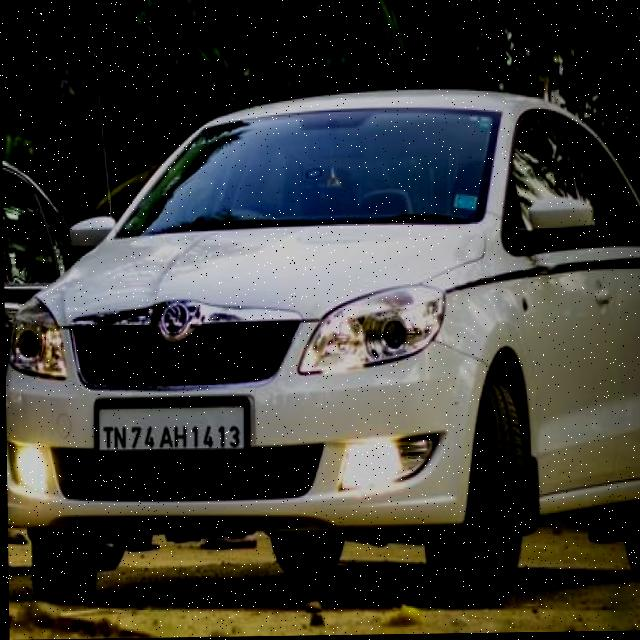plate: (97, 400, 243, 455)
